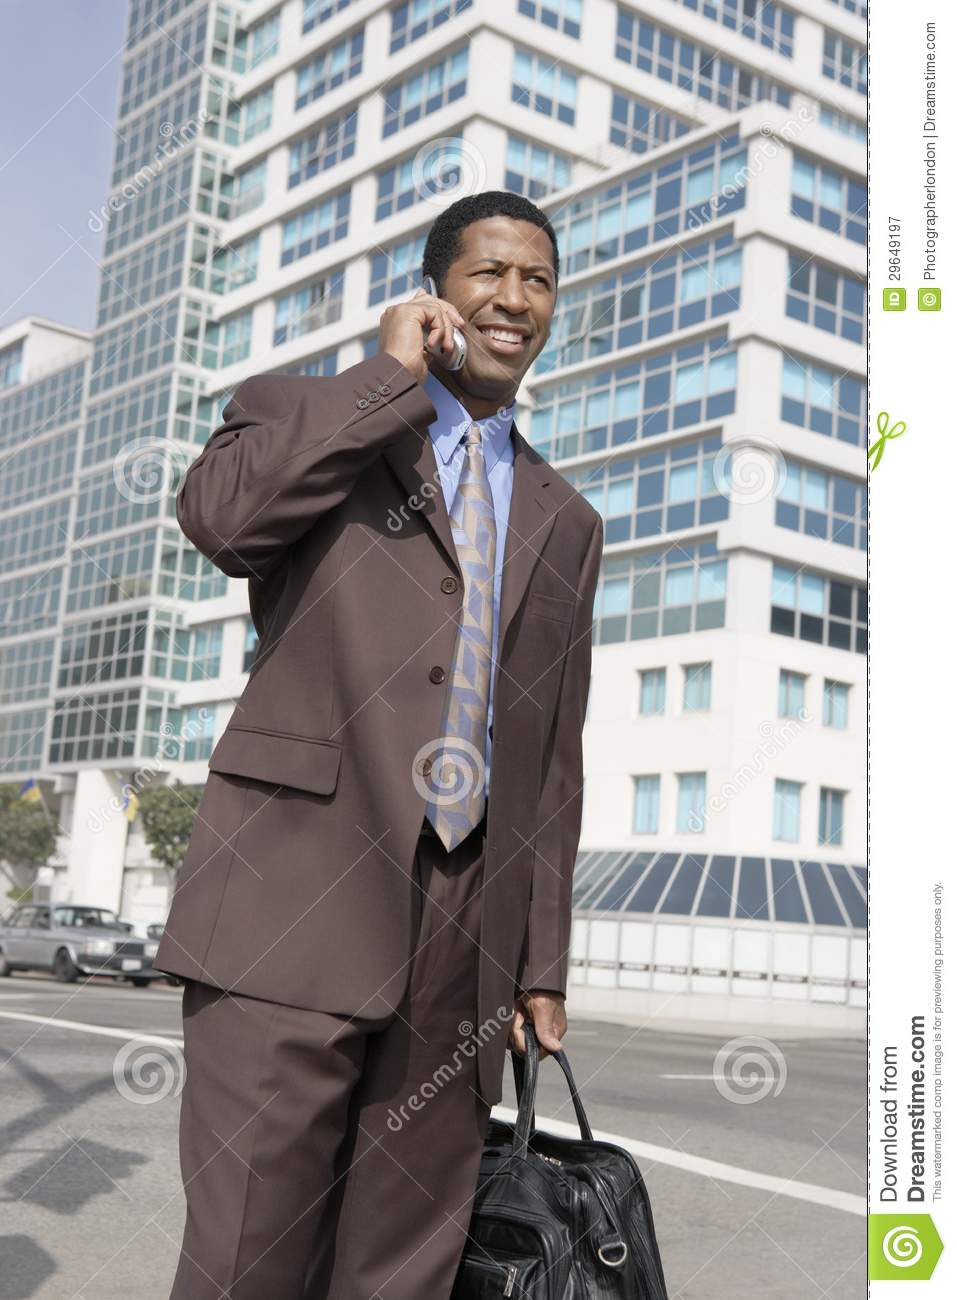phone: (409, 269, 469, 383)
talk: (382, 250, 554, 401)
